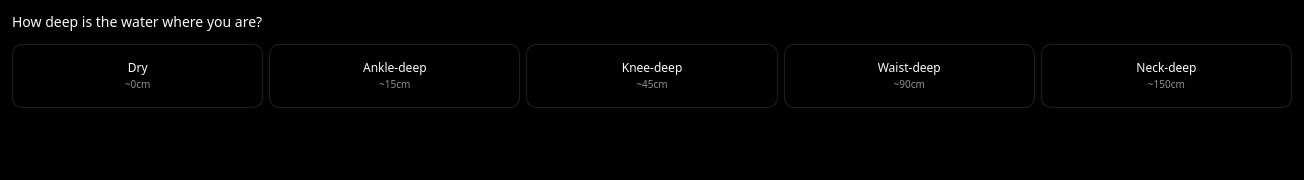
Test case: QuickDepthReport › keeps saying what was reported once undo has gone, for as long as it takes to read (WCAG 2.2.1)
What coordinates should you click on to do the following:
click the button "Ankle-deep ~15cm"
I would click on:
 (395, 76)
Its box is [269,44,520,108].
Wait 60000 ms
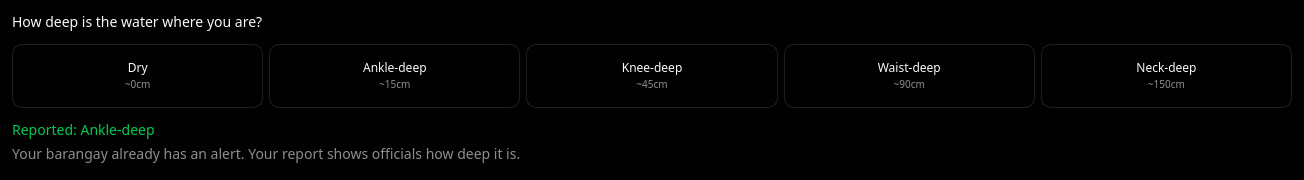
Result: the message shows "Reported: Ankle-deep" at [12,120,520,163]
